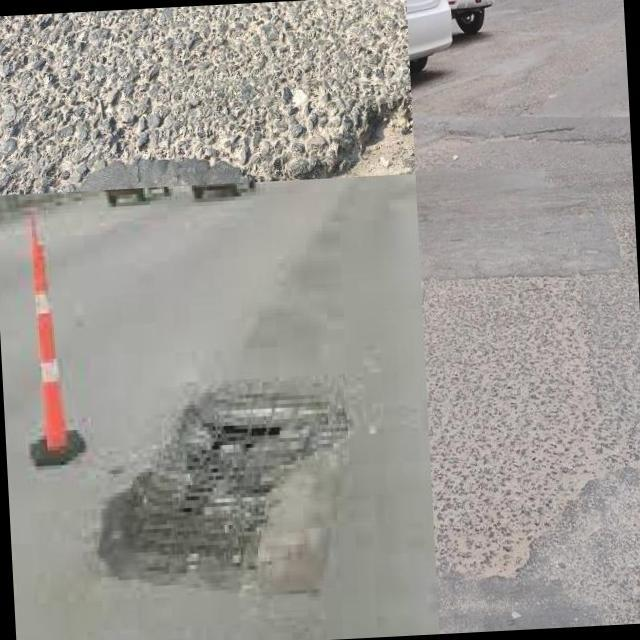Pothole: (98, 376, 354, 586)
